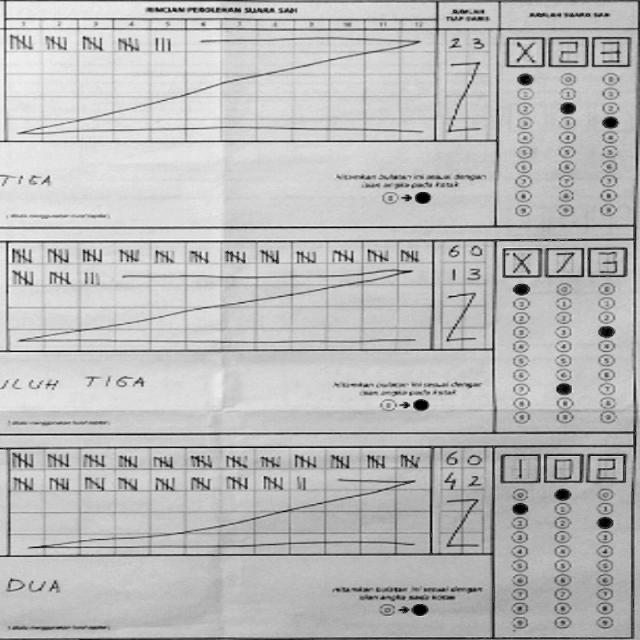Suara: (496, 444, 627, 490), (498, 243, 625, 278), (503, 33, 627, 66)
